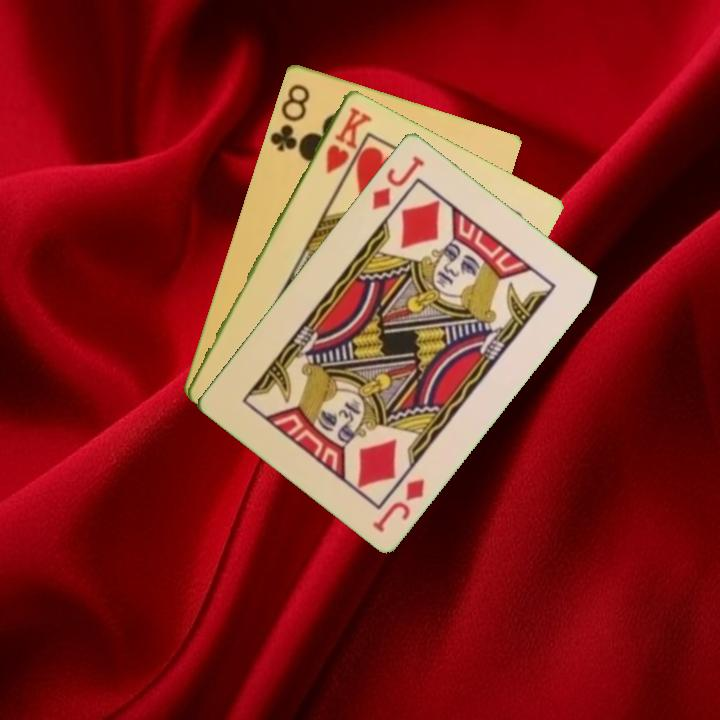8c: (266, 80, 313, 154)
Jd: (368, 151, 428, 213), (369, 474, 428, 534)
Kh: (322, 103, 374, 176)
